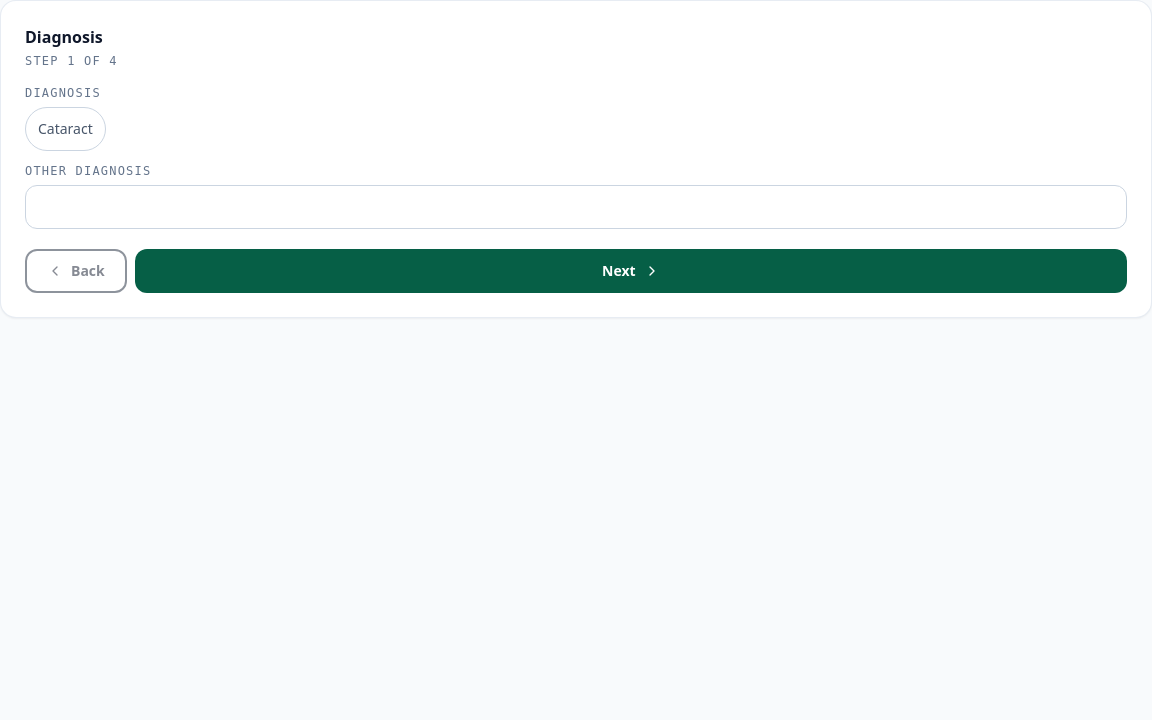
Test: wizard rendering › vitals from the Hospital step are read back on review with the outcome
What coordinates should you click on to do the following:
click the button "Next"
I would click on:
 (631, 271)
Its box is [135,249,1127,293].
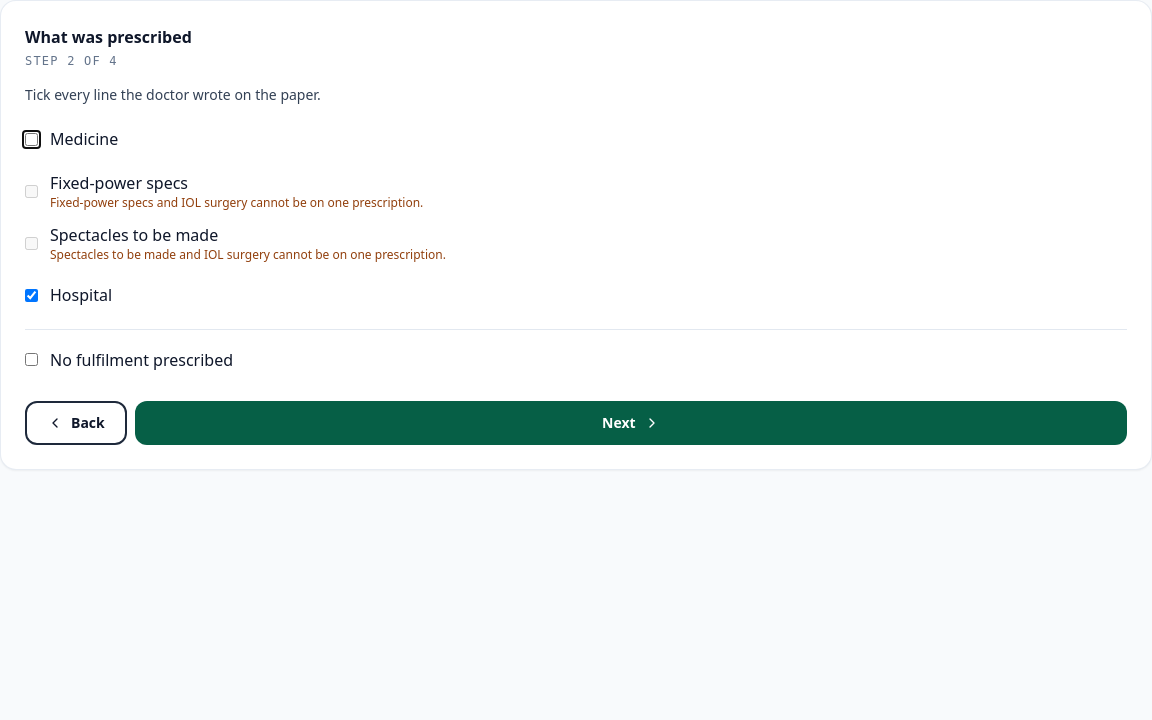
What coordinates should you click on to do the following:
click the button "Next"
I would click on:
 (631, 423)
Its box is [135,401,1127,445].
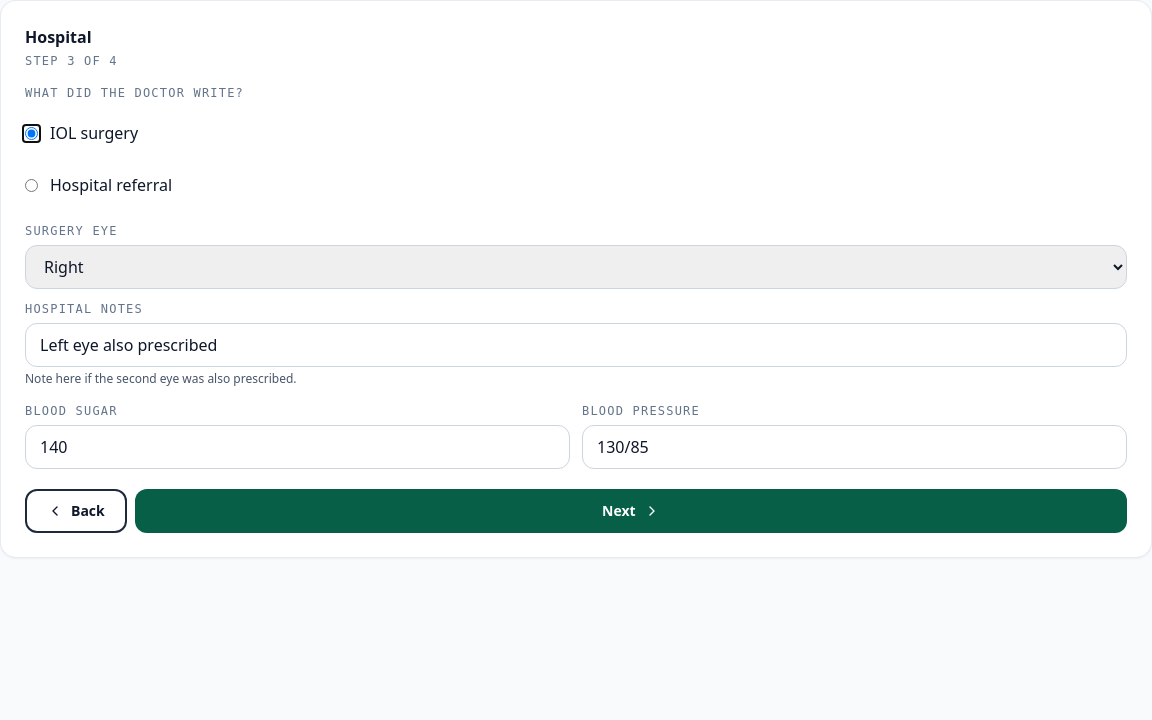
What coordinates should you click on to do the following:
click the button "Next"
I would click on:
 (631, 511)
Its box is [135,489,1127,533].
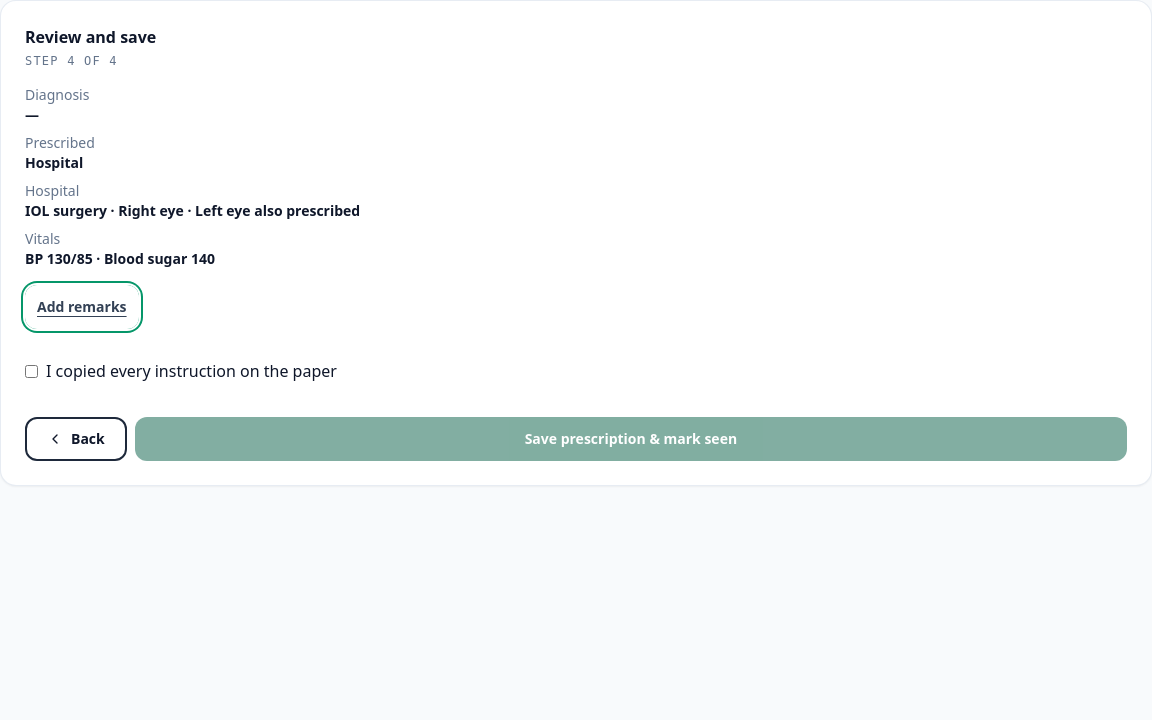
Expected: the text "IOL surgery · Right eye · Left eye also prescribed" is shown, [25,201,360,220]
Expected: the text "BP 130/85 · Blood sugar 140" is shown, [25,249,215,268]
